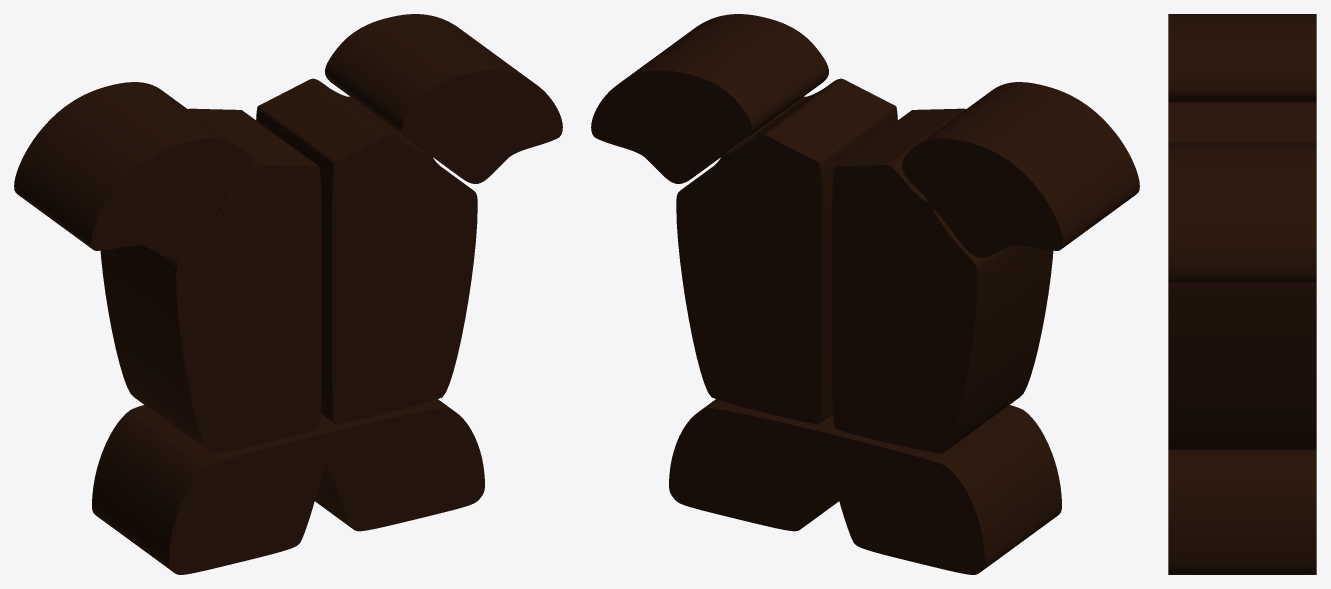
File: Tunic.obj
3 views of the same model, side by side, from view 1: azimuth 30°, elevation 25°; view 2: azimuth 150°, elevation 25°; view 3: azimuth 270°, elevation 25° (orthographic). The views are drawn at different scales.
Parts seen in each view (by area): view 1: Curve.003_path3769.001; view 2: Curve.003_path3769.001; view 3: Curve.003_path3769.001.
Part boxes in pixels (bbox=[...]): Curve.003_path3769.001: bbox=[14, 14, 562, 574]; Curve.003_path3769.001: bbox=[591, 14, 1139, 574]; Curve.003_path3769.001: bbox=[1168, 14, 1316, 574].
Bounding box in the file's own units: 0.7071 × 0.6204 × 0.2.
